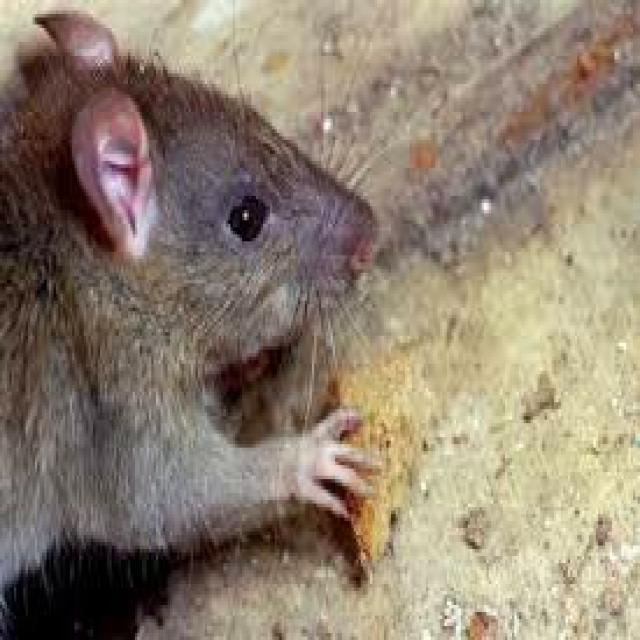rat: (0, 10, 391, 637)
